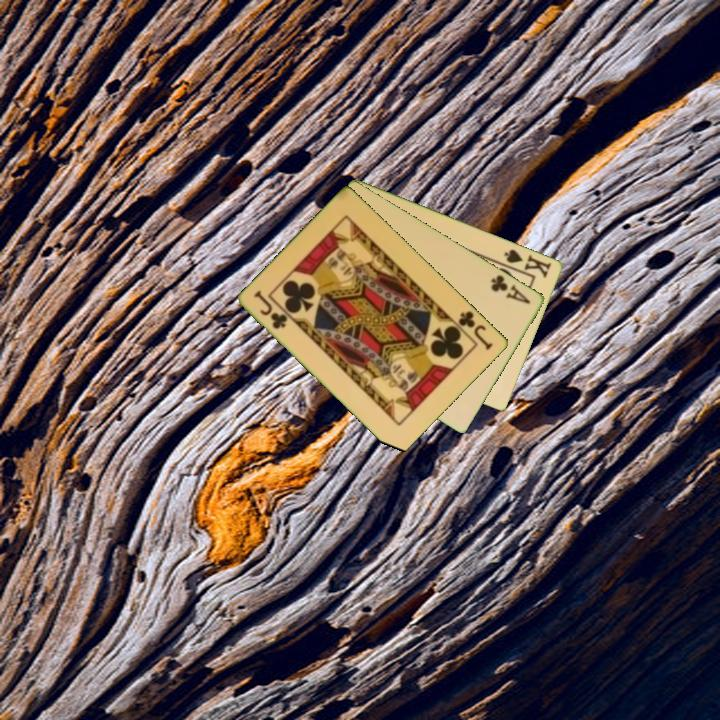Ac: (488, 271, 534, 307)
Jc: (455, 307, 496, 353), (251, 287, 291, 332)
Ks: (501, 245, 555, 280)
